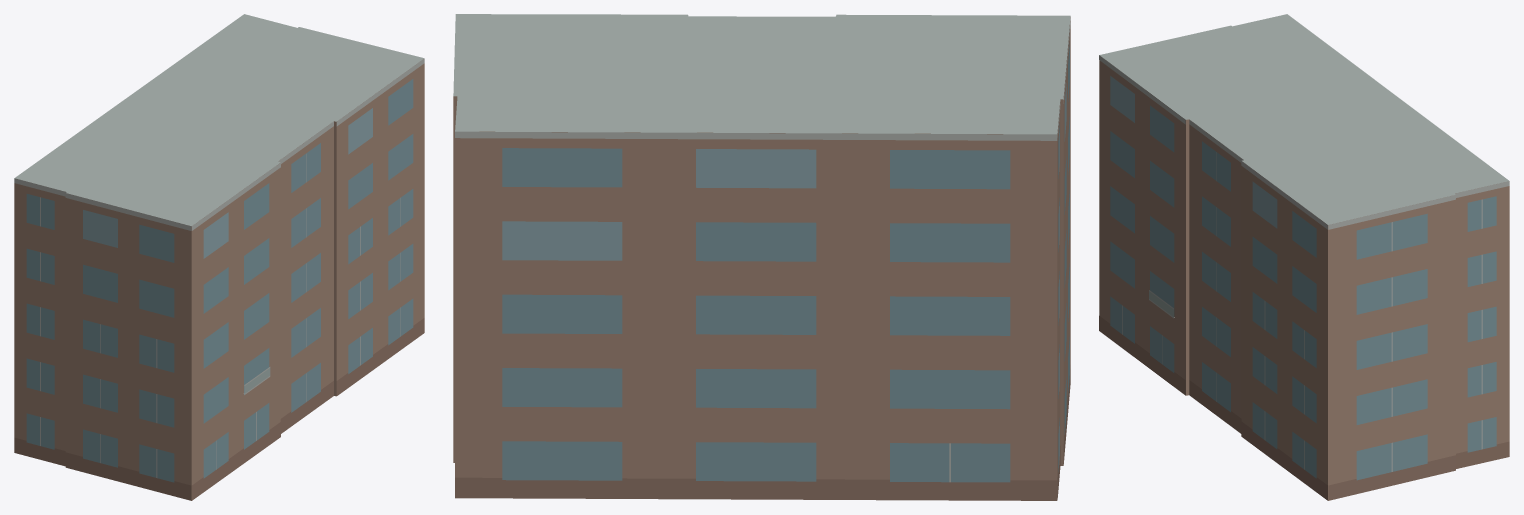
The model's file is survey-upis-32926806.glb.
3 renders of one model, left to right at view 1: azimuth 30°, elevation 25°; view 2: azimuth 150°, elevation 25°; view 3: azimuth 270°, elevation 25°, orthographic. The views are drawn at different scales.
Visible parts, largest first — view 1: survey-upis-32926806.tmp; view 2: survey-upis-32926806.tmp; view 3: survey-upis-32926806.tmp.
Part boxes in pixels (<box>): survey-upis-32926806.tmp: <box>14,14,424,500</box>; survey-upis-32926806.tmp: <box>453,14,1070,500</box>; survey-upis-32926806.tmp: <box>1099,14,1509,500</box>.
Bounding box in the file's own units: 22.49 × 13.7 × 18.49.
